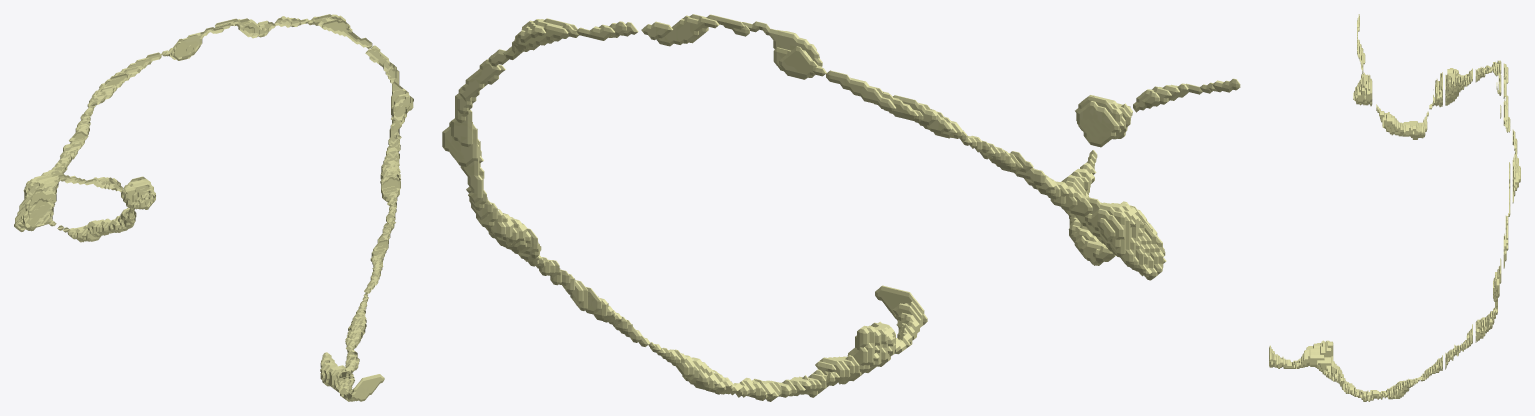
File: SVV_SAADR.gltf
3 renders of one model, left to right at view 1: azimuth 30°, elevation 25°; view 2: azimuth 150°, elevation 25°; view 3: azimuth 270°, elevation 25°, orthographic. The views are drawn at different scales.
Parts seen in each view (by area): view 1: SAADR; view 2: SAADR; view 3: SAADR.
Part boxes in pixels (left/top/right/bottom): SAADR: left=14, top=14, right=413, bottom=401; SAADR: left=442, top=14, right=1240, bottom=401; SAADR: left=1269, top=14, right=1520, bottom=401.
Size of the model in its own units: 100404 by 69159 by 54690.
